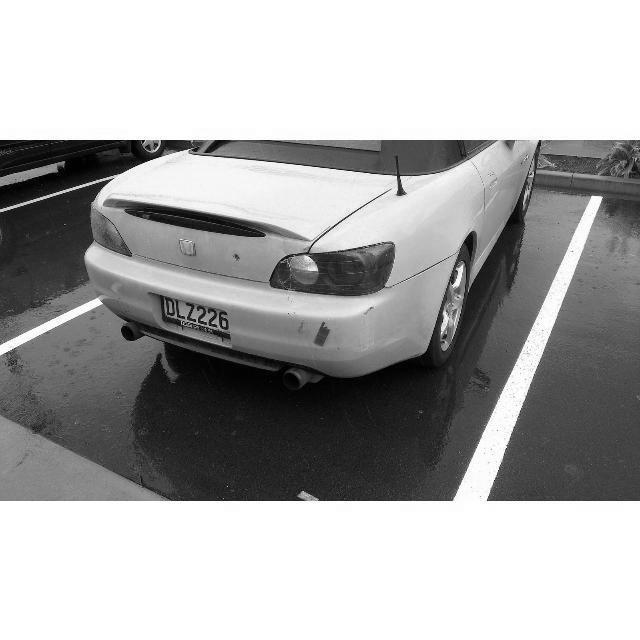rear-bumper-dent: (169, 266, 409, 374)
